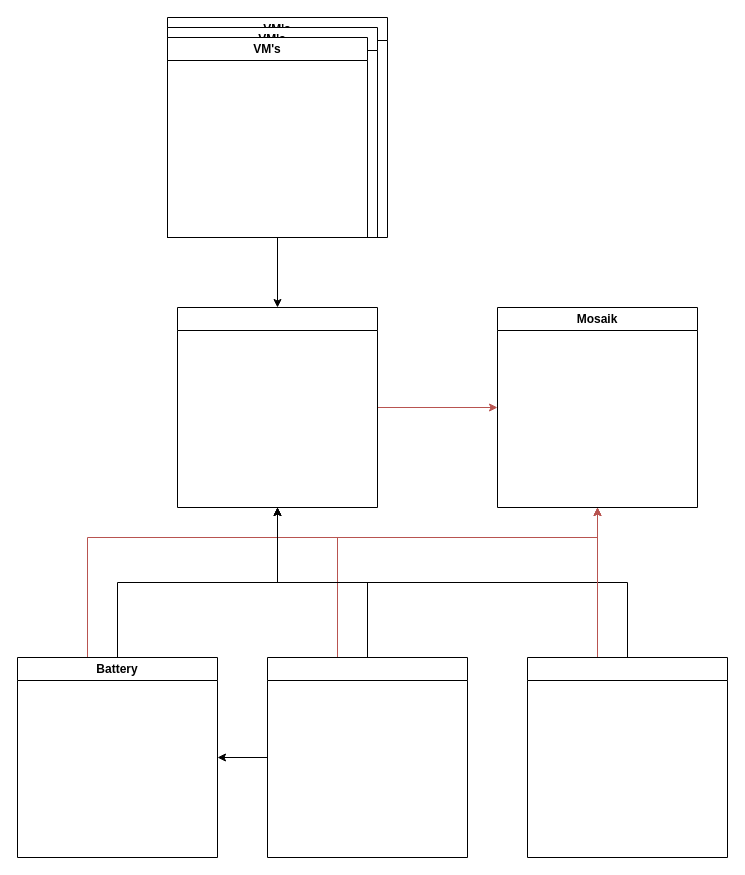
Image size: 745x875. Some labels were removed from this diagram. The shapes that lost their labels are listed below. From the top down, each one's centre as x and y in pixels, then its label:
At [277,407]: "Ecoviser Sim".
At [367,757]: "Solar Power".
At [627,757]: "Grid".
